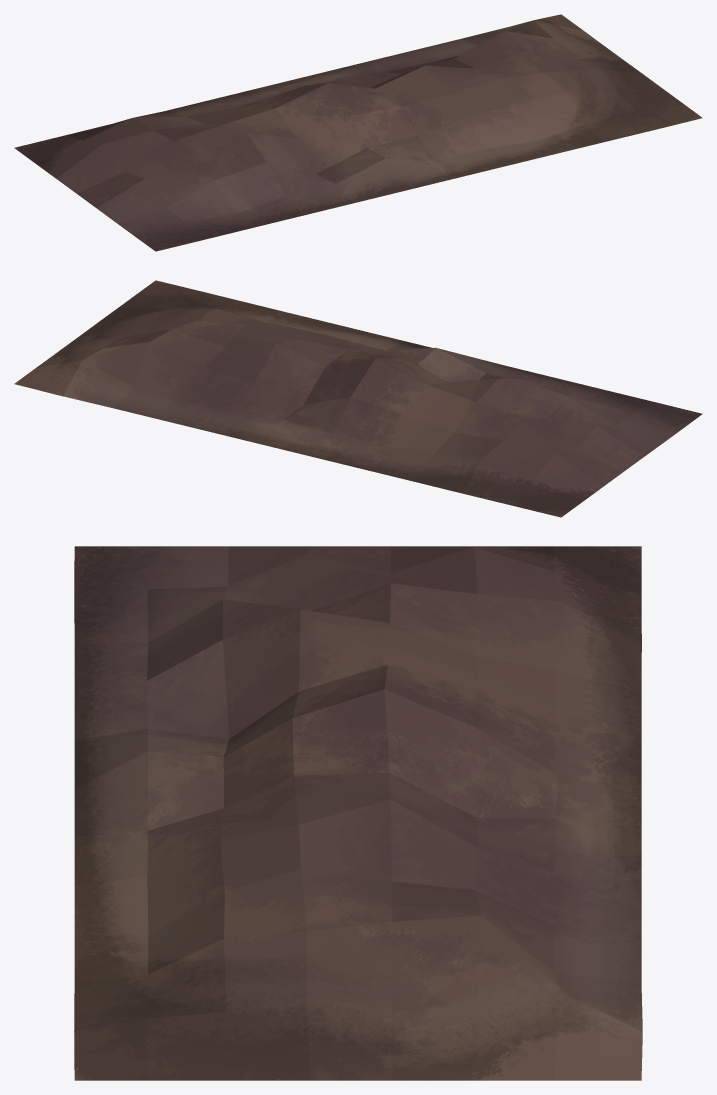
Rendered from Graveyard 1.fbx.
3 renders of one model, top to bottom at view 1: azimuth 30°, elevation 25°; view 2: azimuth 150°, elevation 25°; view 3: azimuth 270°, elevation 25°, orthographic. The views are drawn at different scales.
Visible parts, largest first — view 1: Cube; view 2: Cube; view 3: Cube.
Boxes of the visible parts, <box> form: Cube: <box>14,14,702,251</box>; Cube: <box>14,280,702,517</box>; Cube: <box>74,546,642,1080</box>.
Size of the model in its own units: 446 by 39.72 by 201.
